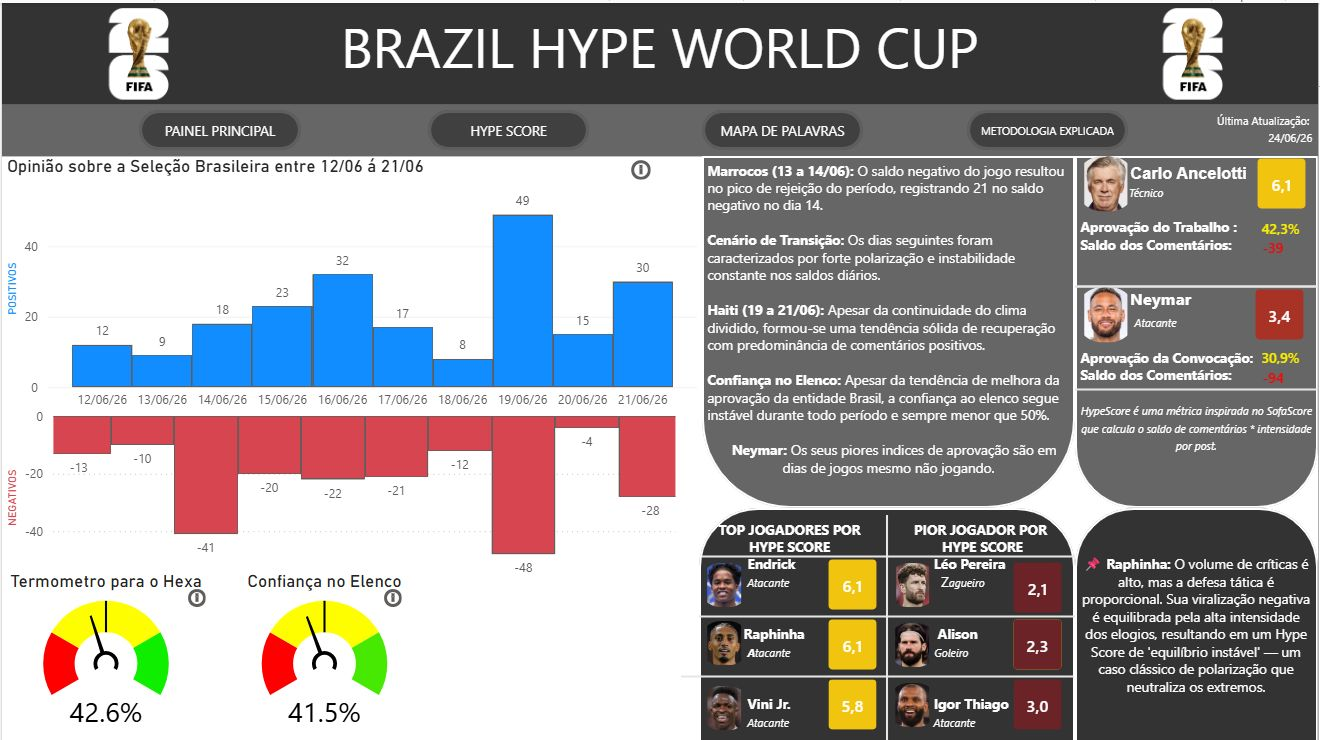

The page's visual inventory and layout, read from the dashboard file:
{"tool":"powerbi","page":{"name":"Página 1","canvas":[1280,720],"ordinal":0},"visuals":[{"type":"clusteredColumnChart","title":"Opinião sobre a Seleção Brasileira entre 12/06 á 28/06","fields":{"Series":["df_obt.nome_entidade"],"Y":["df_obt.Total_Positivos"],"Category":["df_obt.data.Variation.Hierarquia de datas.Ano","df_obt.data.Variation.Hierarquia de datas.Trimestre","df_obt.data.Variation.Hierarquia de datas.Mês","df_obt.data.Variation.Hierarquia de datas.Dia"]},"box":[7.8,148.8,794.7,217.9],"z":0},{"type":"columnChart","fields":{"Y":["df_obt.Total_Negativos_Piramide"],"Category":["df_obt.data.Variation.Hierarquia de datas.Ano","df_obt.data.Variation.Hierarquia de datas.Trimestre","df_obt.data.Variation.Hierarquia de datas.Mês","df_obt.data.Variation.Hierarquia de datas.Dia"],"Series":["df_obt.nome_entidade"]},"box":[7.8,332.6,794.7,196.5],"z":1000},{"type":"textbox","box":[0,0,1279.5,98.9],"z":2000},{"type":"image","box":[88.6,0,88.6,98.9],"z":2002,"group":"g1"},{"type":"image","box":[1113.6,0,88.6,98.9],"z":2012,"group":"g1"},{"type":"textbox","box":[0,98.9,1279.5,50],"z":3000},{"type":"actionButton","box":[133.2,104.1,157.6,38.9],"z":4000,"group":"g2"},{"type":"Tachometer1474636471549","title":"Termometro para o Hexa","fields":{"Y":["df_obt.Termometro_Hexa"]},"box":[0,552.5,202.3,167.3],"z":4000},{"type":"group","id":"g1","title":"Grupo 1","box":[88.6,0,1113.6,98.9],"z":5000,"group":"g2"},{"type":"Tachometer1474636471549","fields":{"Y":["df_obt.Confianca_Elenco"]},"box":[202.3,552.5,222.7,167.3],"z":5000},{"type":"shape","box":[956.1,148.8,323.9,395.9],"z":6000},{"type":"actionButton","box":[414.3,104.1,156.6,38.9],"z":7000,"group":"g2"},{"type":"actionButton","box":[367.7,566.1,25.3,26.3],"z":9000},{"type":"actionButton","box":[607.9,148.8,32.1,27.2],"z":10000},{"type":"actionButton","box":[680.8,104.1,156.6,38.9],"z":11000,"group":"g2"},{"type":"actionButton","box":[177,566.1,25.3,26.3],"z":11000},{"type":"group","id":"g2","title":"Grupo 2","box":[88.6,0,1113.6,143],"z":14000},{"type":"lineChart","title":"Porcentagem de Subjetividade de Comentários Negativos","fields":{"Category":["df_obt.data.Variation.Hierarquia de datas.Dia"],"Y":["data 22 - 28 (5).%_Negatividade_Subjetiva_Dia"]},"box":[814.1,544.7,465.9,175.1],"z":15000},{"type":"textbox","box":[956.1,162.4,323.9,366.7],"z":16000},{"type":"lineChart","title":"Percentual de Comentários Internacionais","fields":{"Y":["data 22 - 28 (5).Percentual_Internacional"],"Category":["df_obt.data.Variation.Hierarquia de datas.Dia"]},"box":[414.3,544.7,398.8,174.1],"z":17000},{"type":"actionButton","box":[938.6,104.1,156.6,38.9],"z":18000,"group":"g2"},{"type":"shape","box":[425,151.7,97.3,361.8],"z":19000},{"type":"textbox","box":[431.9,502.9,139.1,41.8],"z":20000},{"type":"shape","box":[563.2,566.1,299.6,121.6],"z":21000},{"type":"shape","box":[1043.6,570.9,236.4,121.6],"z":22000}]}

Visuals, with their boxes in screenshot pixels (x1, y1, x2, y2), scaled from the page's 1280x720 canvas onto the 1320x740 screenshot:
"Opinião sobre a Seleção Brasileira entre 12/06 á 28/06" clusteredColumnChart: <box>8,153,828,377</box>
columnChart - df_obt.Total_Negativos_Piramide x df_obt.data.Variation.Hierarquia de datas.Ano: <box>8,342,828,544</box>
textbox: <box>0,0,1319,102</box>
image: <box>91,0,183,102</box>
image: <box>1148,0,1240,102</box>
textbox: <box>0,102,1319,153</box>
actionButton: <box>137,107,300,147</box>
"Termometro para o Hexa" Tachometer1474636471549: <box>0,568,209,739</box>
"Grupo 1" group: <box>91,0,1240,102</box>
Tachometer1474636471549 - df_obt.Confianca_Elenco: <box>209,568,438,739</box>
shape: <box>986,153,1319,560</box>
actionButton: <box>427,107,589,147</box>
actionButton: <box>379,582,405,609</box>
actionButton: <box>627,153,660,181</box>
actionButton: <box>702,107,864,147</box>
actionButton: <box>183,582,209,609</box>
"Grupo 2" group: <box>91,0,1240,147</box>
"Porcentagem de Subjetividade de Comentários Negativos" lineChart: <box>840,560,1319,739</box>
textbox: <box>986,167,1319,544</box>
"Percentual de Comentários Internacionais" lineChart: <box>427,560,839,739</box>
actionButton: <box>968,107,1129,147</box>
shape: <box>438,156,539,528</box>
textbox: <box>445,517,589,560</box>
shape: <box>581,582,890,707</box>
shape: <box>1076,587,1319,712</box>
